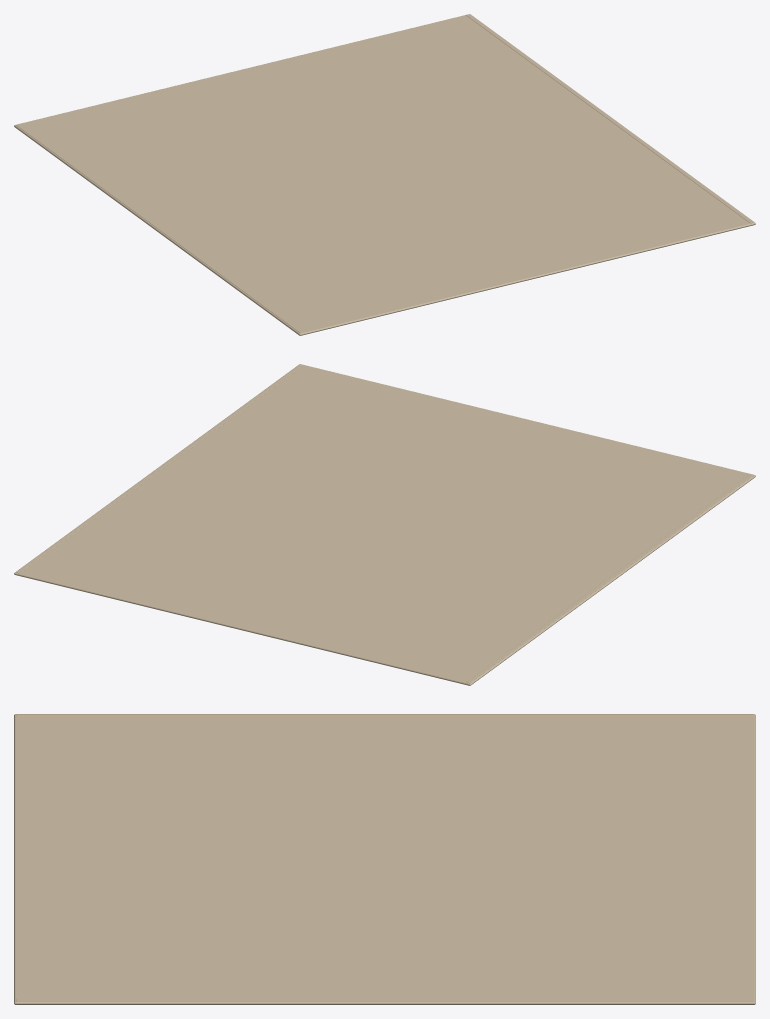
File: living-rug.glb
The picture shows the model from 3 angles, top to bottom: view 1: azimuth 30°, elevation 25°; view 2: azimuth 150°, elevation 25°; view 3: azimuth 270°, elevation 25°; orthographic projection. The views are drawn at different scales.
Visible parts, largest first — view 1: Mood linen oat; view 2: Mood linen oat; view 3: Mood linen oat.
Part boxes in pixels (x1=…): Mood linen oat: x1=14, y1=14, x2=755, y2=335; Mood linen oat: x1=14, y1=364, x2=755, y2=685; Mood linen oat: x1=14, y1=714, x2=755, y2=1004.
Bounding box in the file's own units: 2.95 × 0.016 × 3.2.
